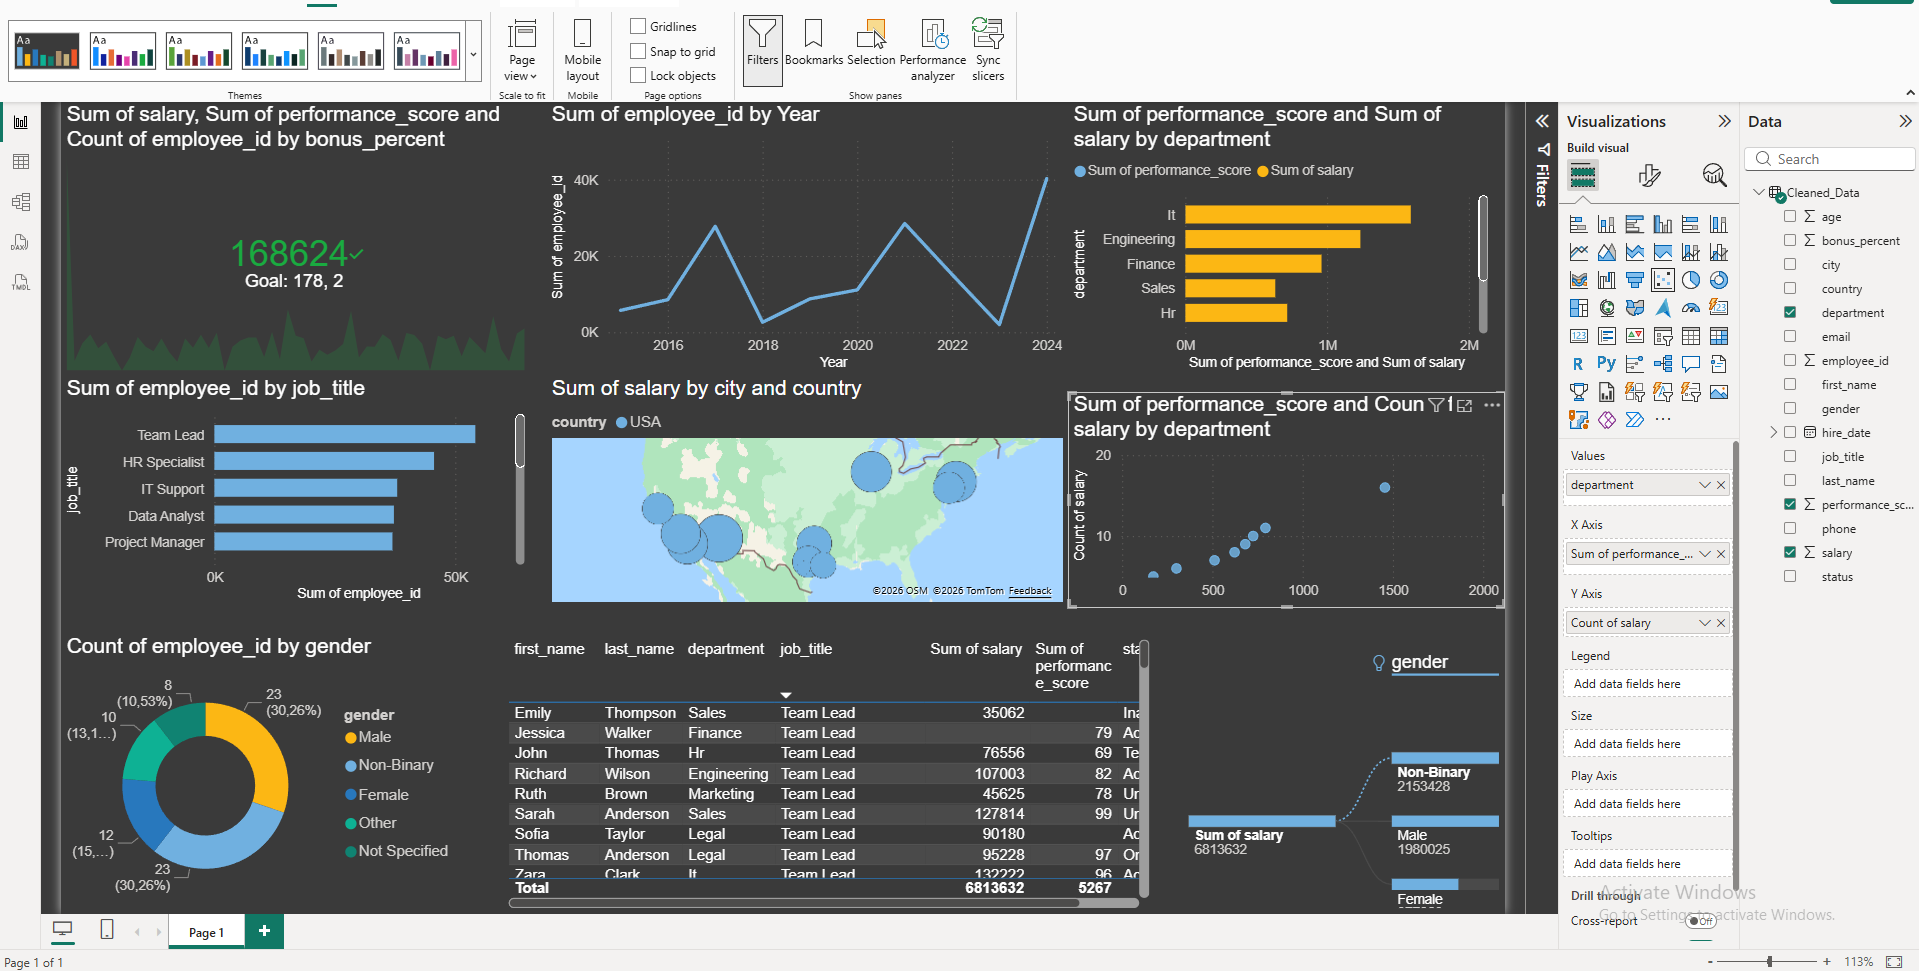

Layout of this report page (visuals, bound fields, positions):
{"tool":"powerbi","page":{"name":"Page 1","canvas":[1280,720],"ordinal":0},"visuals":[{"type":"kpi","fields":{"Indicator":["Sum(Cleaned_Data.salary)"],"Goal":["Sum(Cleaned_Data.performance_score)","CountNonNull(Cleaned_Data.employee_id)"],"TrendLine":["Cleaned_Data.bonus_percent"]},"box":[0,0,416.3,243.2],"z":0},{"type":"lineChart","fields":{"Category":["Cleaned_Data.hire_date.Variation.Date Hierarchy.Year","Cleaned_Data.hire_date.Variation.Date Hierarchy.Quarter","Cleaned_Data.hire_date.Variation.Date Hierarchy.Month","Cleaned_Data.hire_date.Variation.Date Hierarchy.Day"],"Y":["Sum(Cleaned_Data.employee_id)"]},"box":[429.9,0,463,243.2],"z":1000},{"type":"barChart","fields":{"Y":["Sum(Cleaned_Data.performance_score)","Sum(Cleaned_Data.salary)"],"Category":["Cleaned_Data.department"]},"box":[892.9,0,377.4,243.2],"z":2000},{"type":"barChart","fields":{"Category":["Cleaned_Data.job_title"],"Y":["Sum(Cleaned_Data.employee_id)"]},"box":[0,243.2,416.3,205.2],"z":3000},{"type":"donutChart","fields":{"Category":["Cleaned_Data.gender"],"Y":["CountNonNull(Cleaned_Data.employee_id)"]},"box":[0,471.7,357.9,248],"z":4000},{"type":"azureMap","fields":{"Category":["Cleaned_Data.city"],"Series":["Cleaned_Data.country"],"Size":["Sum(Cleaned_Data.salary)"]},"box":[430,243,463,205],"z":5000},{"type":"scatterChart","fields":{"X":["Sum(Cleaned_Data.performance_score)"],"Y":["CountNonNull(Cleaned_Data.salary)"],"Category":["Cleaned_Data.department"]},"box":[892.9,256.8,387.1,191.6],"z":6000},{"type":"tableEx","fields":{"Values":["Cleaned_Data.first_name","Cleaned_Data.last_name","Cleaned_Data.department","Cleaned_Data.job_title","Sum(Cleaned_Data.salary)","Sum(Cleaned_Data.performance_score)","Cleaned_Data.status"]},"box":[391,471.7,579,248.3],"z":7000},{"type":"decompositionTreeVisual","fields":{"Analyze":["Sum(Cleaned_Data.salary)"],"ExplainBy":["Cleaned_Data.gender","Cleaned_Data.department","Cleaned_Data.job_title"]},"box":[970,471.7,310.3,248.3],"z":8000}]}

Visuals, with their boxes on the page's 1280x720 design canvas (x1, y1, x2, y2). These are canvas units, not pixel positions in the 1919x971 screenshot, which may show the page scaled, cropped or inside an application window:
kpi - Sum(Cleaned_Data.salary) x Sum(Cleaned_Data.performance_score): 0/0/416/243
lineChart - Cleaned_Data.hire_date.Variation.Date Hierarchy.Year x Cleaned_Data.hire_date.Variation.Date Hierarchy.Quarter: 430/0/893/243
barChart - Sum(Cleaned_Data.performance_score) x Sum(Cleaned_Data.salary): 893/0/1270/243
barChart - Cleaned_Data.job_title x Sum(Cleaned_Data.employee_id): 0/243/416/448
donutChart - Cleaned_Data.gender x CountNonNull(Cleaned_Data.employee_id): 0/472/358/720
azureMap - Cleaned_Data.city x Cleaned_Data.country: 430/243/893/448
scatterChart - Sum(Cleaned_Data.performance_score) x CountNonNull(Cleaned_Data.salary): 893/257/1280/448
tableEx - Cleaned_Data.first_name x Cleaned_Data.last_name: 391/472/970/720
decompositionTreeVisual - Sum(Cleaned_Data.salary) x Cleaned_Data.gender: 970/472/1280/720
